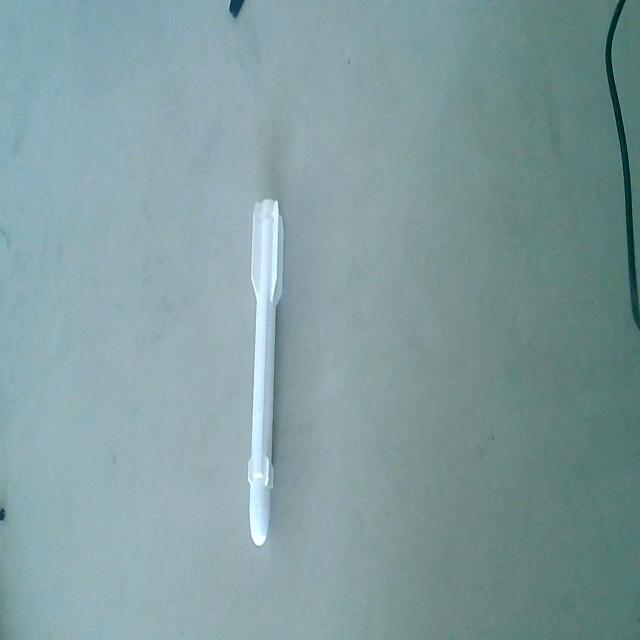Rocket: (247, 193, 286, 550)
